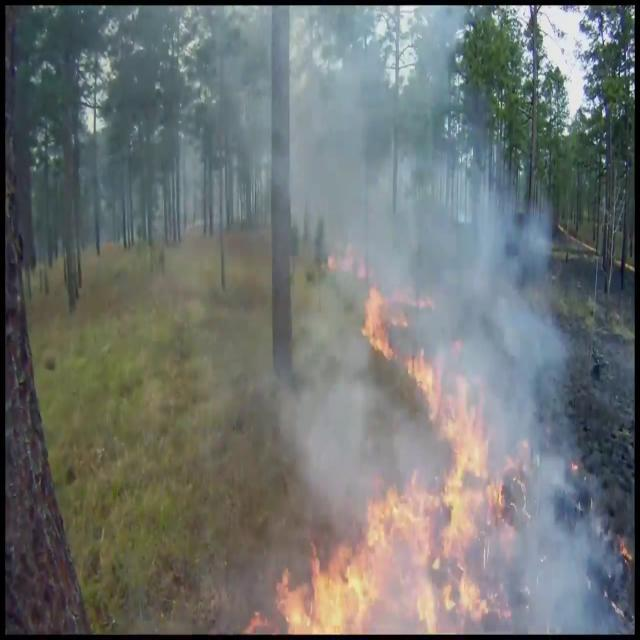Fire: (267, 419, 512, 635), (404, 344, 478, 468), (360, 274, 392, 364)
Smoke: (409, 137, 582, 616), (212, 0, 482, 254)
